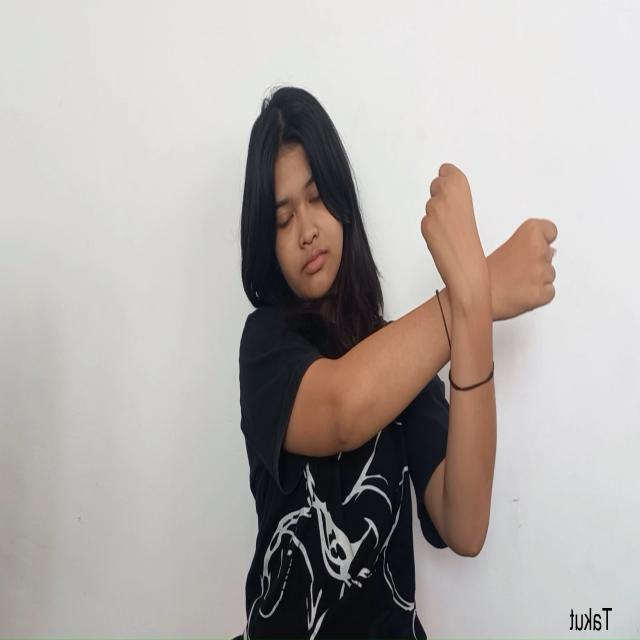Takut -BISINDO-: (419, 160, 558, 364)
